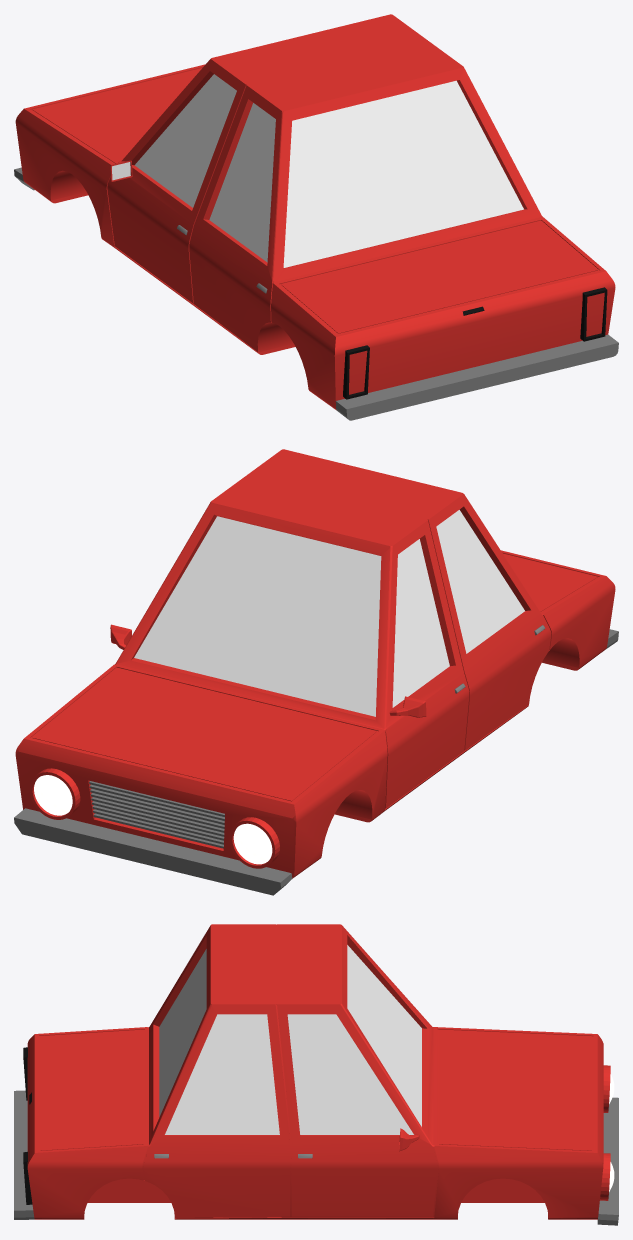
The model's file is Car_Low_Poly.gltf.
3 views of the same model, one above another, from view 1: azimuth 30°, elevation 25°; view 2: azimuth 150°, elevation 25°; view 3: azimuth 270°, elevation 25° (orthographic). The views are drawn at different scales.
Parts seen in each view (by area): view 1: BoodyCar, BackCrash, LightBack; view 2: BoodyCar, FrontCrash, LightFront, Mirror; view 3: BoodyCar, BackCrash, FrontCrash, LightFront, LightBack.
Part boxes in pixels (<box>): BoodyCar: <box>15,14,615,409</box>; BackCrash: <box>335,334,618,420</box>; LightBack: <box>343,287,607,399</box>; BoodyCar: <box>15,449,615,878</box>; FrontCrash: <box>14,808,292,895</box>; LightFront: <box>29,768,279,868</box>; Mirror: <box>110,624,426,717</box>; BoodyCar: <box>27,924,603,1219</box>; BackCrash: <box>14,1090,34,1219</box>; FrontCrash: <box>597,1097,618,1225</box>; LightFront: <box>600,1065,614,1200</box>; LightBack: <box>23,1047,32,1204</box>.
Size of what is drawn, in the model's own units: 4.89 by 3.39 by 9.03.
